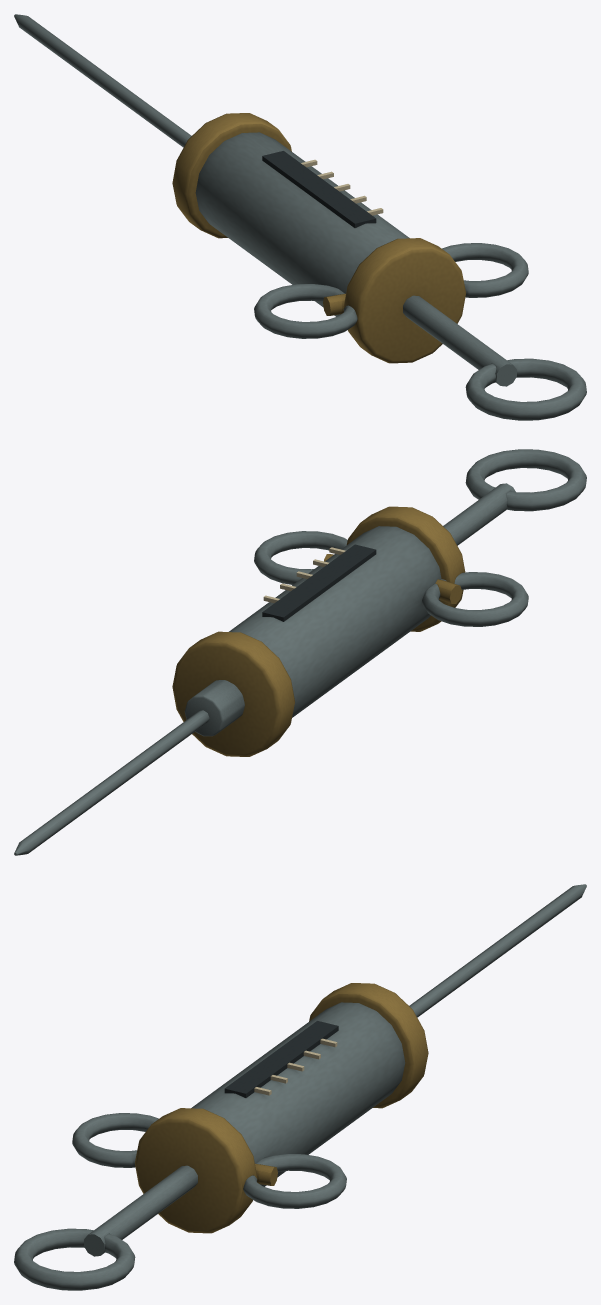
Rendered from spritz.obj.
The picture shows the model from 3 angles, top to bottom: view 1: azimuth 30°, elevation 25°; view 2: azimuth 150°, elevation 25°; view 3: azimuth 330°, elevation 25°; orthographic projection.
Parts seen in each view (by area): view 1: Spritz_barrel, Spritz_collar, Thumb_ring, Spritz_collar.001, Finger_ring, Spritz_Needle, Plunger_shaft, Dose_window, Finger_ring.001; view 2: Spritz_barrel, Spritz_collar.001, Thumb_ring, Spritz_Needle, Spritz_collar, Finger_ring, Dose_window, Finger_ring.001, Spritz_nozzle, Plunger_shaft; view 3: Spritz_barrel, Spritz_collar, Thumb_ring, Spritz_collar.001, Finger_ring.001, Spritz_Needle, Plunger_shaft, Finger_ring, Dose_window.
Part boxes in pixels (<box>): Spritz_barrel: <box>195,132,409,316</box>; Spritz_collar: <box>343,238,465,363</box>; Thumb_ring: <box>465,358,586,420</box>; Spritz_collar.001: <box>172,113,291,238</box>; Finger_ring: <box>254,284,357,338</box>; Spritz_Needle: <box>14,14,191,147</box>; Plunger_shaft: <box>403,295,516,386</box>; Dose_window: <box>262,151,376,227</box>; Finger_ring.001: <box>442,243,528,297</box>; Spritz_barrel: <box>229,526,441,717</box>; Spritz_collar.001: <box>172,631,294,756</box>; Thumb_ring: <box>465,449,586,511</box>; Spritz_Needle: <box>14,710,209,855</box>; Spritz_collar: <box>346,506,465,631</box>; Finger_ring: <box>422,572,528,626</box>; Dose_window: <box>262,544,376,621</box>; Finger_ring.001: <box>254,531,347,584</box>; Spritz_nozzle: <box>184,680,244,736</box>; Plunger_shaft: <box>443,483,515,545</box>; Spritz_barrel: <box>191,1002,405,1186</box>; Spritz_collar: <box>135,1108,257,1233</box>; Thumb_ring: <box>14,1228,135,1290</box>; Spritz_collar.001: <box>309,983,428,1108</box>; Finger_ring.001: <box>243,1154,346,1208</box>; Spritz_Needle: <box>409,884,586,1017</box>; Plunger_shaft: <box>84,1165,197,1256</box>; Finger_ring: <box>72,1113,158,1167</box>; Dose_window: <box>224,1021,338,1097</box>.
Bounding box in the file's own units: 0.1463 × 0.062 × 0.5256.
Materials: 1 (1 with a texture image).
